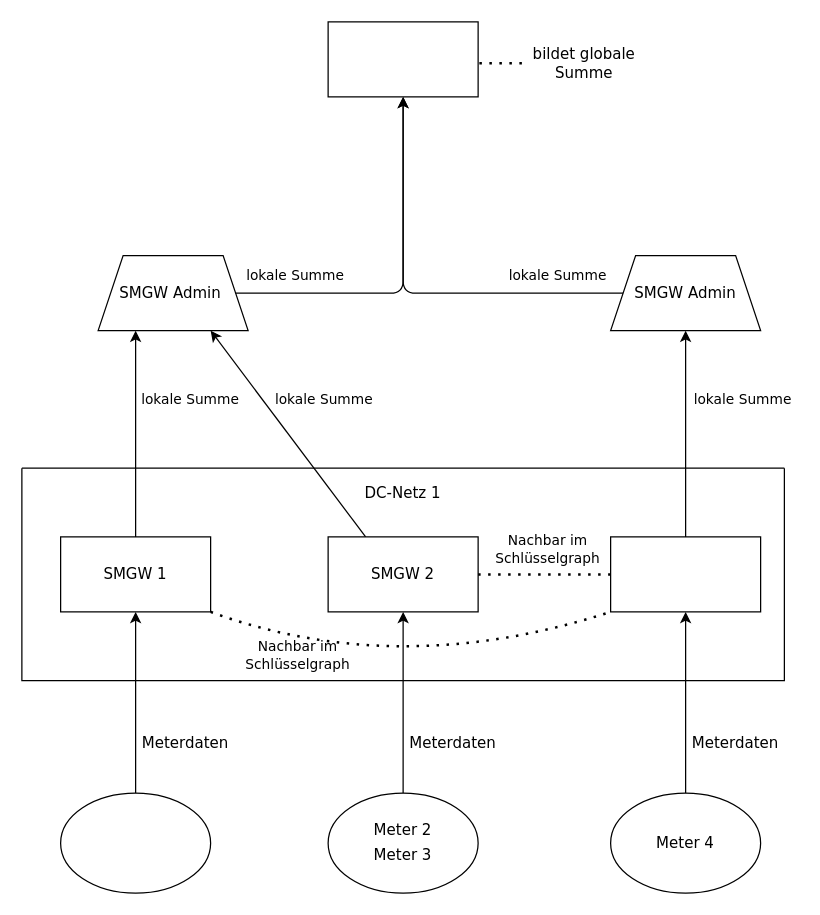
This 820x915 diagram has some shape labels left out. Here are the shapes that lost their labels. From the top down, the centre of each, then its label:
At pixel 402 59: "Stromanbieter".
At pixel 685 574: "SMGW 3".
At pixel 135 842: "Meter 1".
